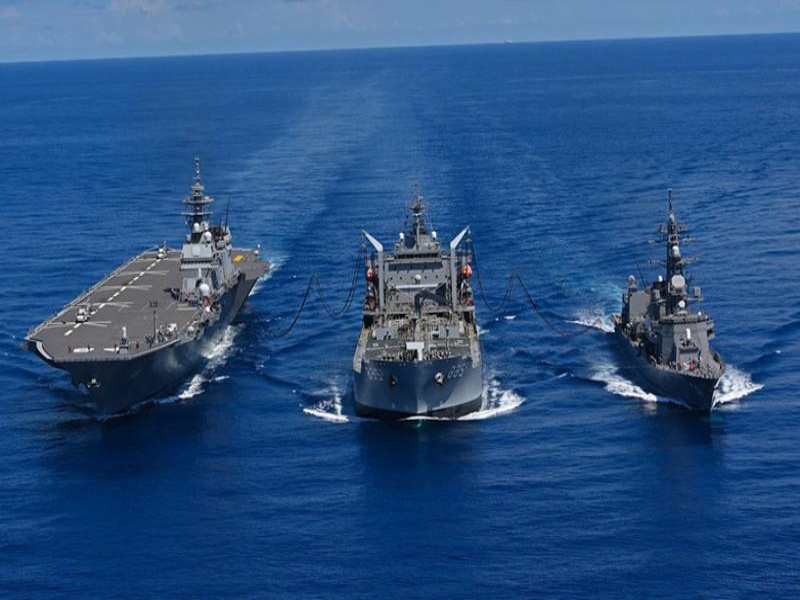carrier: (33, 158, 300, 422)
cruise: (346, 202, 495, 427), (603, 206, 737, 422)
